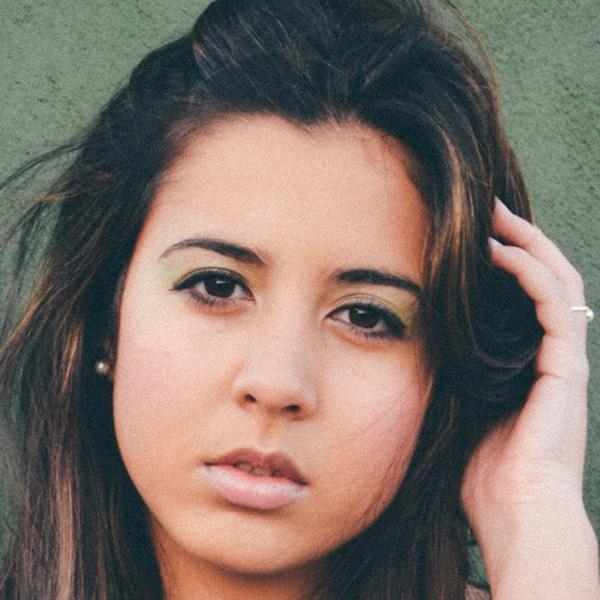Eyes: (317, 285, 413, 349), (166, 258, 260, 319)
